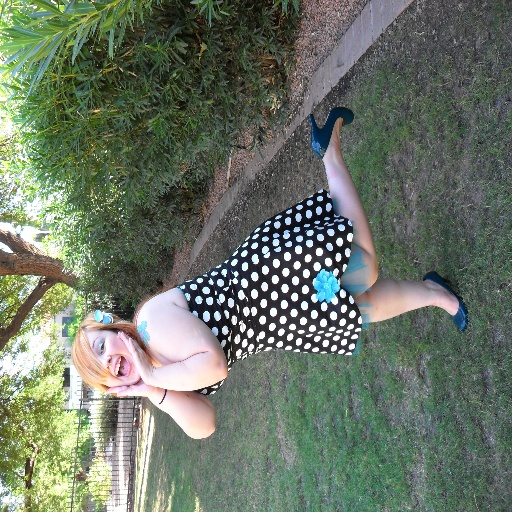hand: (117, 329, 154, 380), (103, 382, 150, 400)
